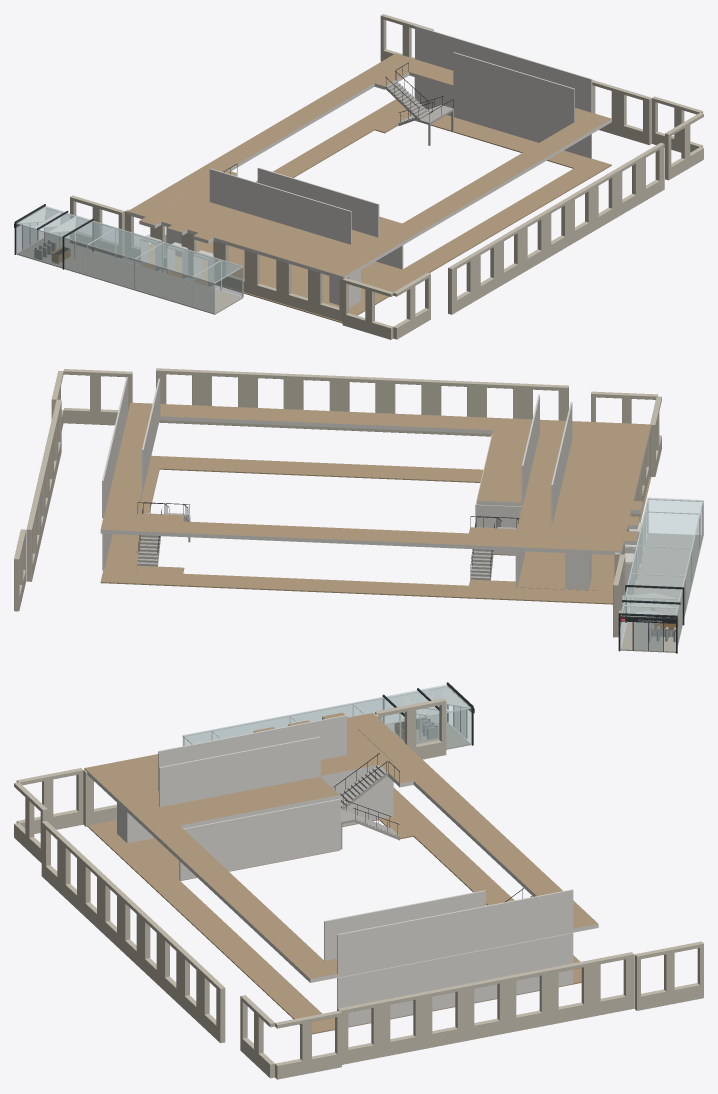
The model's file is sal-interior-a2226ab92f3c.glb.
The picture shows the model from 3 angles, top to bottom: view 1: azimuth 30°, elevation 25°; view 2: azimuth 150°, elevation 25°; view 3: azimuth 270°, elevation 25°; orthographic projection. The views are drawn at different scales.
Visible parts, largest first — view 1: SAL.001; view 2: SAL.001; view 3: SAL.001.
Boxes of the visible parts, box(x1,y1,x2,y2) form: SAL.001: box(14, 14, 703, 339); SAL.001: box(14, 368, 703, 653); SAL.001: box(14, 682, 703, 1079).
Size of the model in its own units: 67.37 by 8.45 by 54.88.
